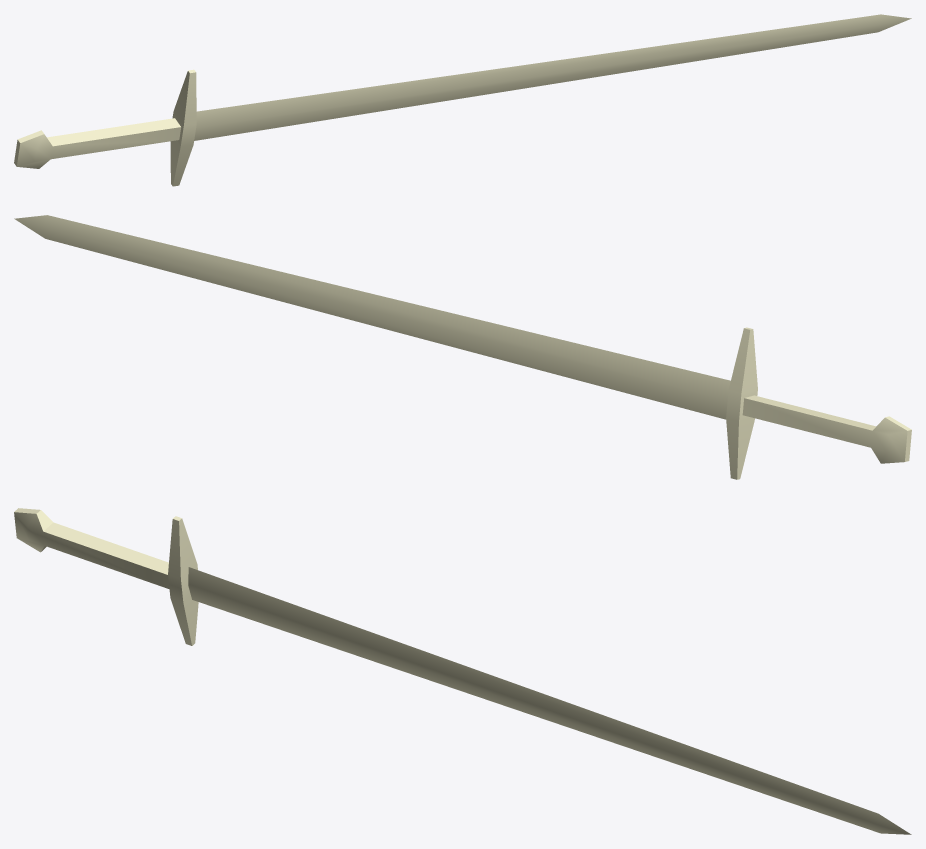
Rendered from Sword idle and attack 1.fbx.
The picture shows the model from 3 angles, top to bottom: view 1: azimuth 30°, elevation 25°; view 2: azimuth 150°, elevation 25°; view 3: azimuth 330°, elevation 25°; orthographic projection. The views are drawn at different scales.
Parts seen in each view (by area): view 1: Sword; view 2: Sword; view 3: Sword.
Boxes of the visible parts, box(x1,y1,x2,y2) form: Sword: box(14, 14, 911, 186); Sword: box(14, 215, 911, 479); Sword: box(14, 508, 911, 834).
Size of the model in its own units: 174 by 24.32 by 18.03.
